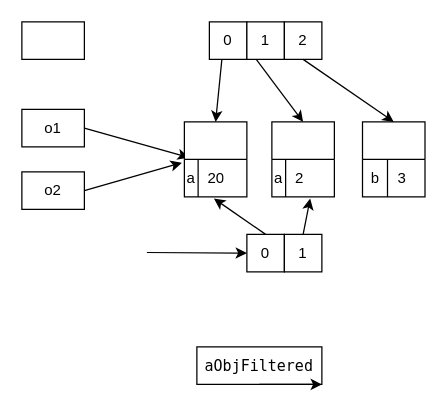
Some shapes in this 448 by 416 pixel diagram are drawn without their labels. The shapes that lost their labels are listed below. From the top down, each one's box as (x1, y1, x2, y2) in pixels, then its label:
(21, 21, 84, 59): aObj
(183, 121, 247, 197): :o1
(271, 121, 334, 197): :o2
(361, 121, 425, 197): :o3
